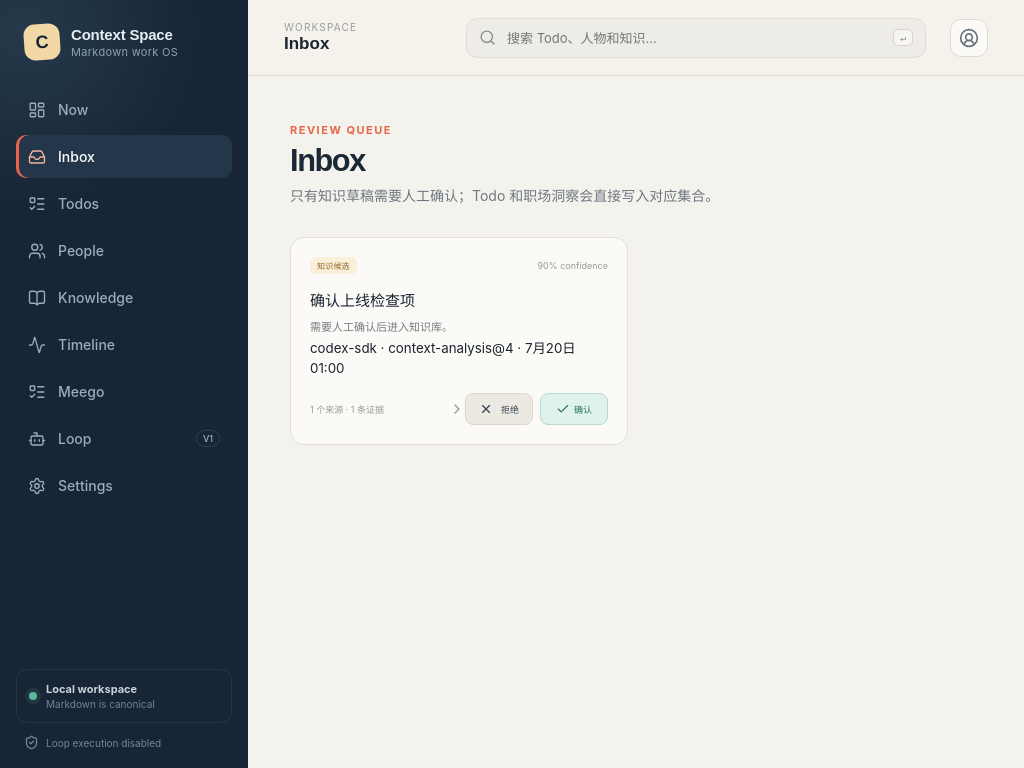
Context Space workbench › confirms an Inbox knowledge candidate and removes it from the review queue
This screenshot has width=1024, height=768.
Expected: the heading "确认上线检查项" is shown, [310,292,415,309]
Click the button with aria-label "确认 确认上线检查项" at (574,409), box [540,393,608,425]
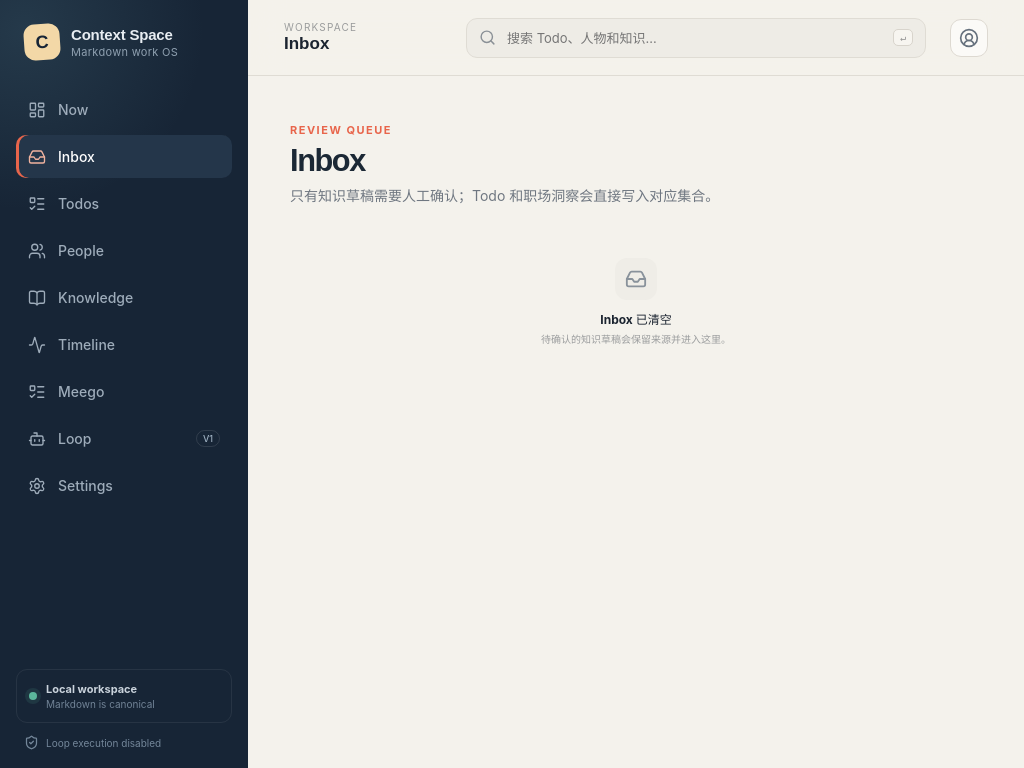
Result: the text "Inbox 已清空" is shown at [600,310,672,327]
Result: the link "确认上线检查项" is gone
